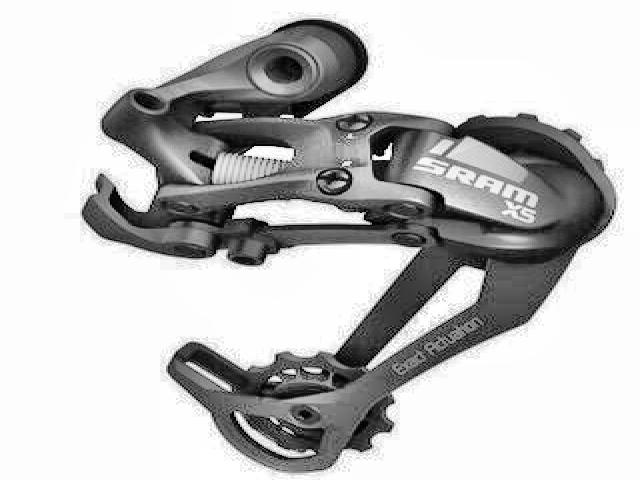rear_derailleur: (73, 15, 620, 475)
